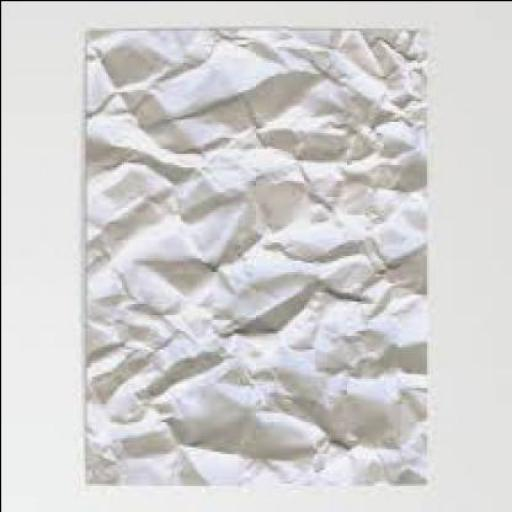paper: (80, 27, 426, 496)
